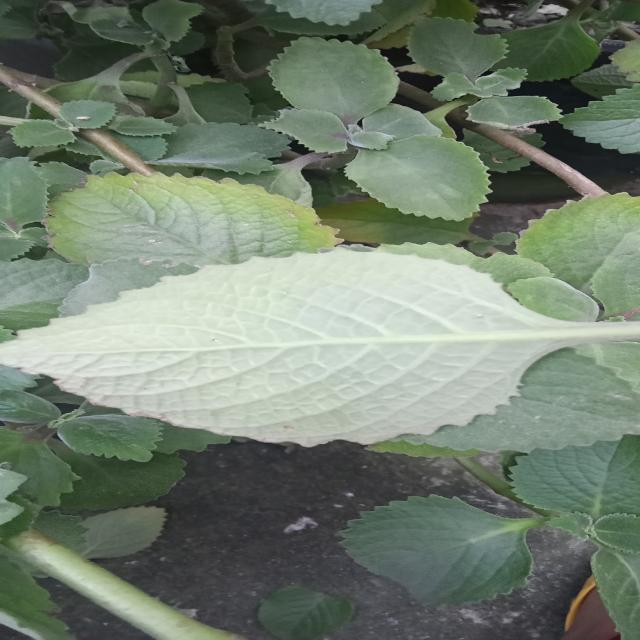Oregano: (4, 226, 640, 480)
